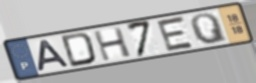7: (126, 19, 154, 60)
A: (37, 38, 72, 73)
D: (59, 31, 99, 69)
E: (155, 14, 197, 53)
H: (91, 25, 134, 62)
Q: (189, 12, 230, 46)
